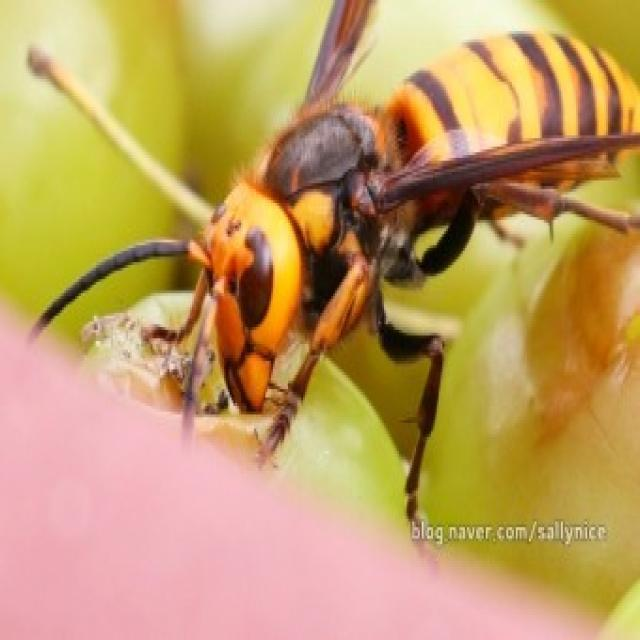-: (22, 3, 638, 527)
